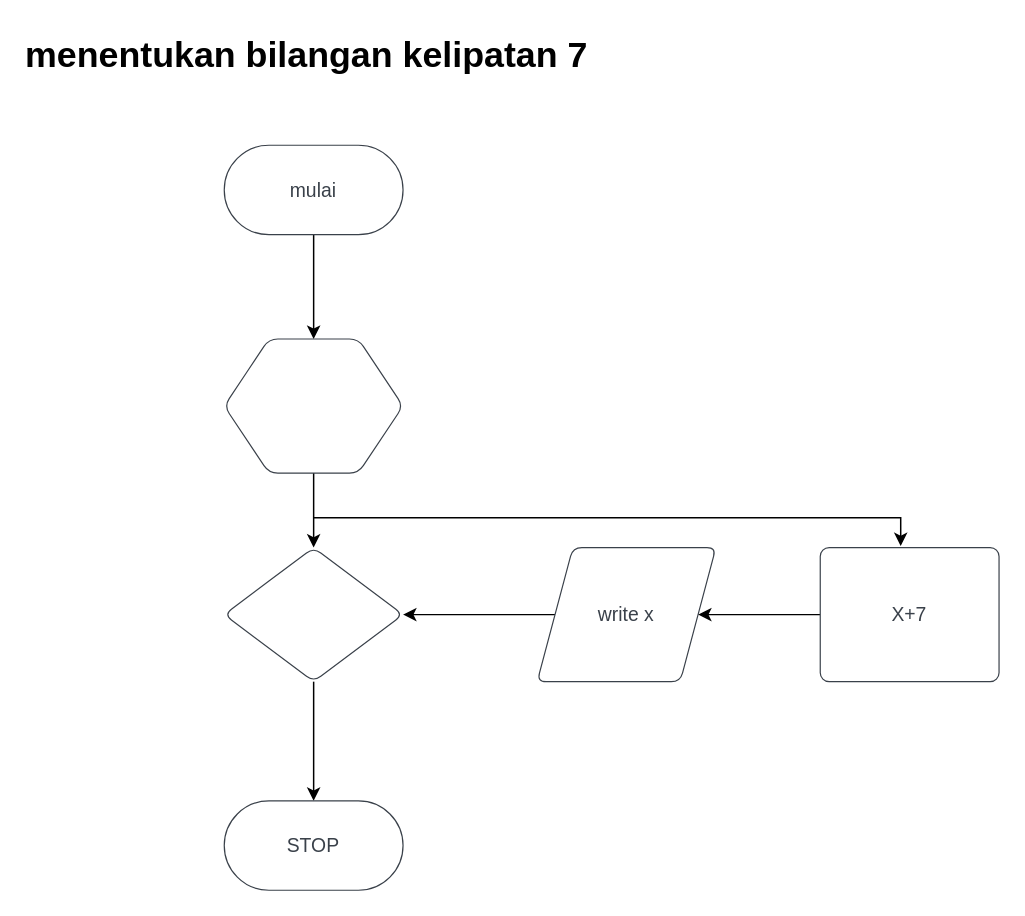
Image size: 1025x916. Some labels were removed from this diagram. The centre of each missing label's shape, as x and y in pixels:
Int = x; X=7: point (313, 405)
X<=50: point (313, 614)
